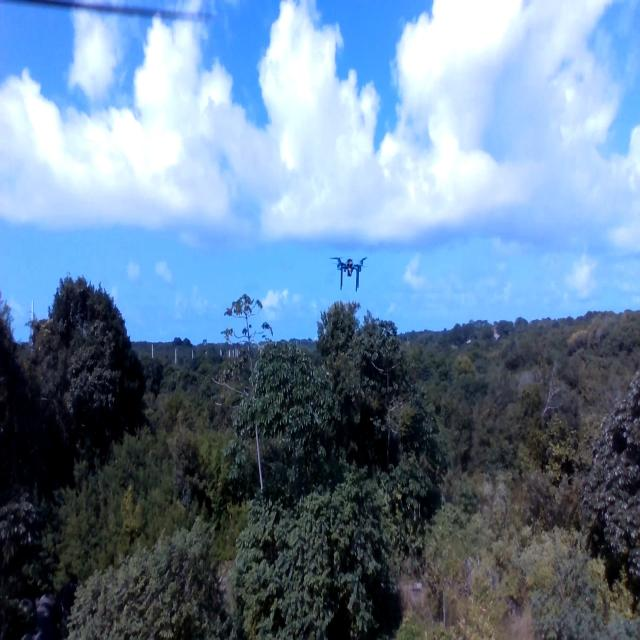-uav-: (330, 249, 374, 307)
